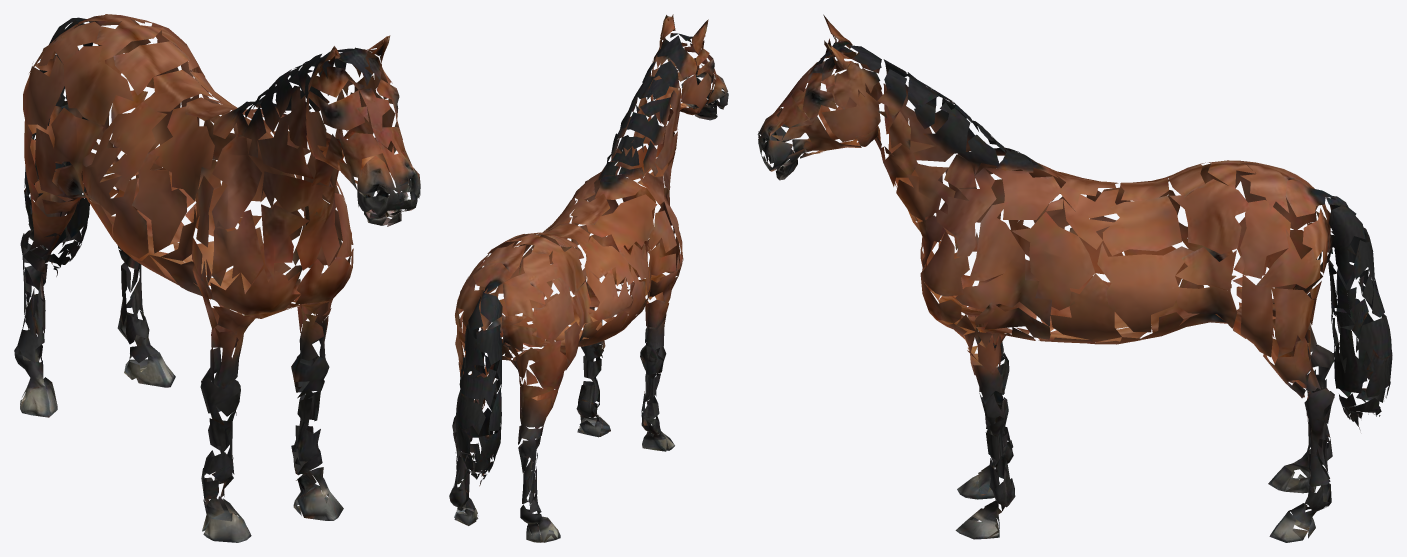
Rendered from pferd.glb.
The picture shows the model from 3 angles, left to right: view 1: azimuth 30°, elevation 25°; view 2: azimuth 150°, elevation 25°; view 3: azimuth 270°, elevation 25°; orthographic projection. The views are drawn at different scales.
Size of the model in its own units: 0.5332 by 1.67 by 1.98.
1 material, 1 textured.
